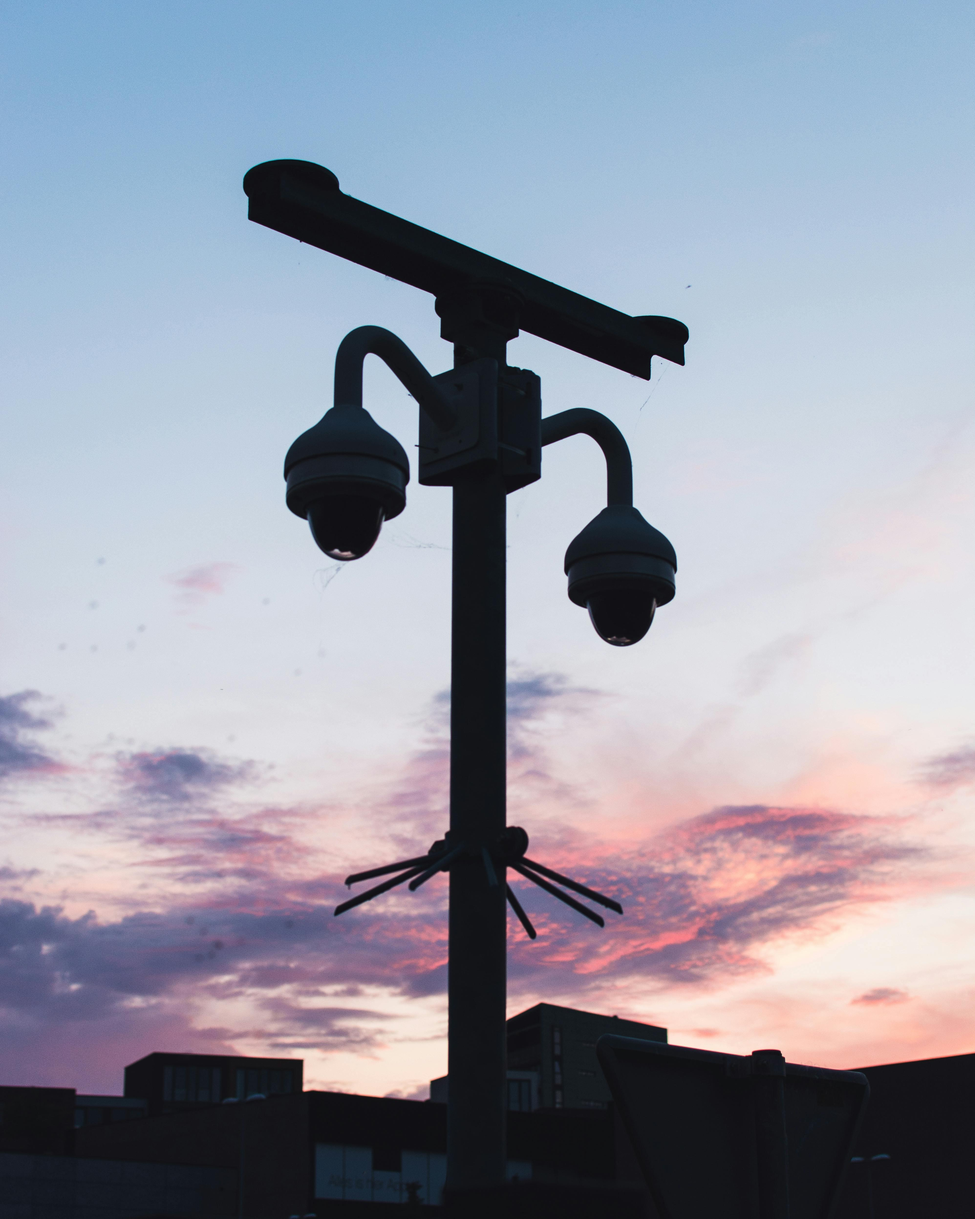camera: (498, 388, 772, 696), (232, 281, 425, 604)
